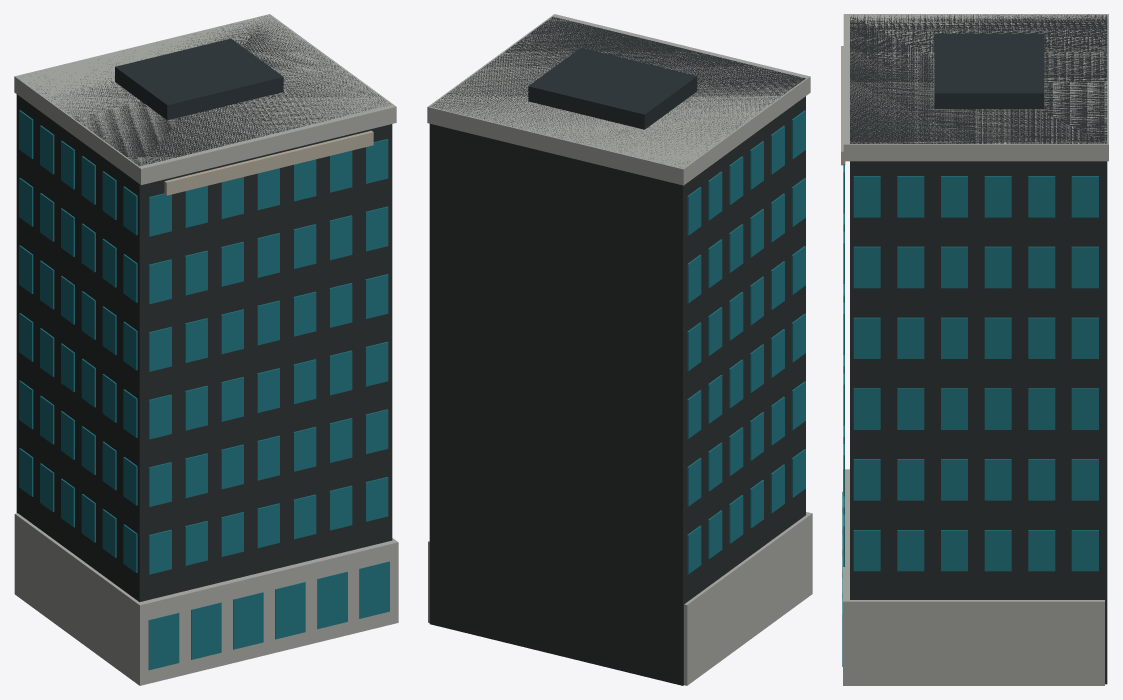
File: JHB_MidRise05_LOD2.fbx
3 views of the same model, side by side, from view 1: azimuth 30°, elevation 25°; view 2: azimuth 150°, elevation 25°; view 3: azimuth 270°, elevation 25° (orthographic). The views are drawn at different scales.
Visible parts, largest first — view 1: JHB_MidRise05_LOD2_FacadeAtlas, JHB_MidRise05_LOD2_TealGlass, JHB_MidRise05_LOD2_Concrete, JHB_MidRise05_LOD2_DarkMetal, JHB_MidRise05_LOD2_BlankSignBand; view 2: JHB_MidRise05_LOD2_FacadeAtlas, JHB_MidRise05_LOD2_Concrete, JHB_MidRise05_LOD2_TealGlass, JHB_MidRise05_LOD2_DarkMetal; view 3: JHB_MidRise05_LOD2_FacadeAtlas, JHB_MidRise05_LOD2_TealGlass, JHB_MidRise05_LOD2_Concrete, JHB_MidRise05_LOD2_DarkMetal.
Part boxes in pixels (x1,y1,x2,y2): JHB_MidRise05_LOD2_FacadeAtlas: (16,16,392,601); JHB_MidRise05_LOD2_TealGlass: (19,110,389,670); JHB_MidRise05_LOD2_Concrete: (14,14,398,685); JHB_MidRise05_LOD2_DarkMetal: (115,38,283,120); JHB_MidRise05_LOD2_BlankSignBand: (164,130,373,195); JHB_MidRise05_LOD2_FacadeAtlas: (429,16,805,685); JHB_MidRise05_LOD2_Concrete: (427,14,812,685); JHB_MidRise05_LOD2_TealGlass: (687,110,805,574); JHB_MidRise05_LOD2_DarkMetal: (528,48,697,129); JHB_MidRise05_LOD2_FacadeAtlas: (850,14,1107,684); JHB_MidRise05_LOD2_TealGlass: (842,164,1098,666); JHB_MidRise05_LOD2_Concrete: (843,14,1108,685); JHB_MidRise05_LOD2_DarkMetal: (934,33,1044,108).
Size of the model in its own units: 10.75 by 21.1 by 9.21.
Materials: 5 (1 with a texture image).
